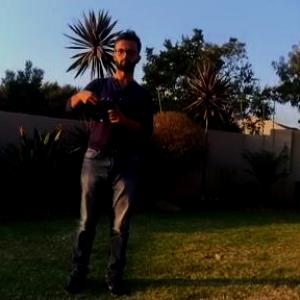follow: (60, 23, 158, 299)
